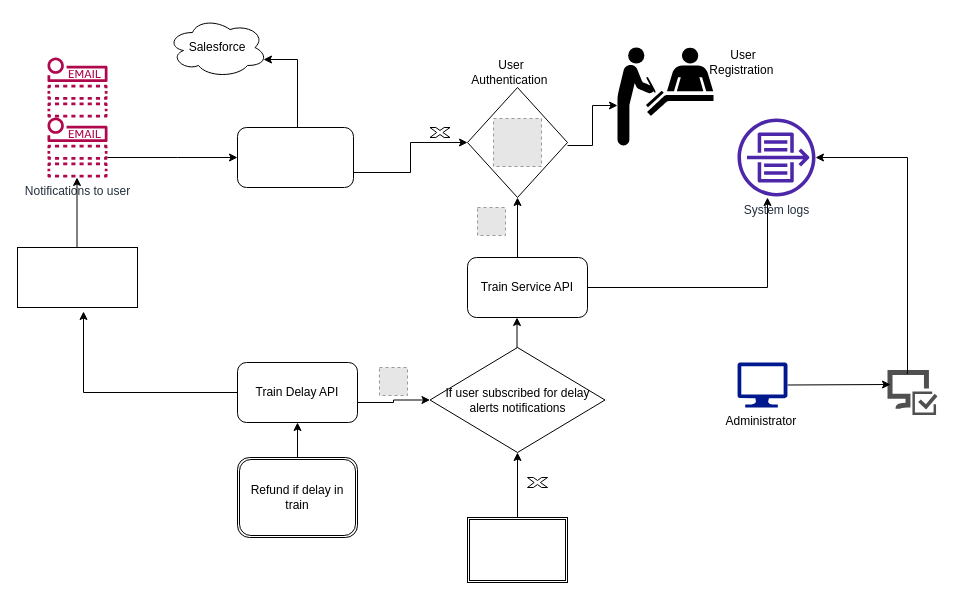
Image size: 963x600. Some labels were removed from this diagram. Grey dashed boxes stand in for pictures. Each missing label, with the centre of its shape:
Register for alerts subscription: the point at 517,549
Register user: the point at 295,157
Send Alerts to user: the point at 77,277
Service Now: the point at 912,392
